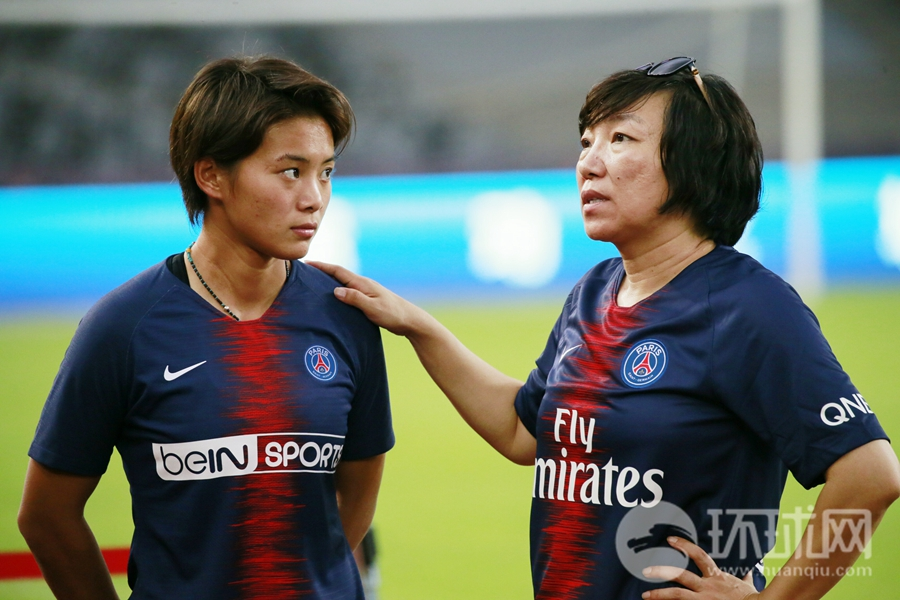person: (4, 48, 450, 600), (482, 47, 900, 596)
